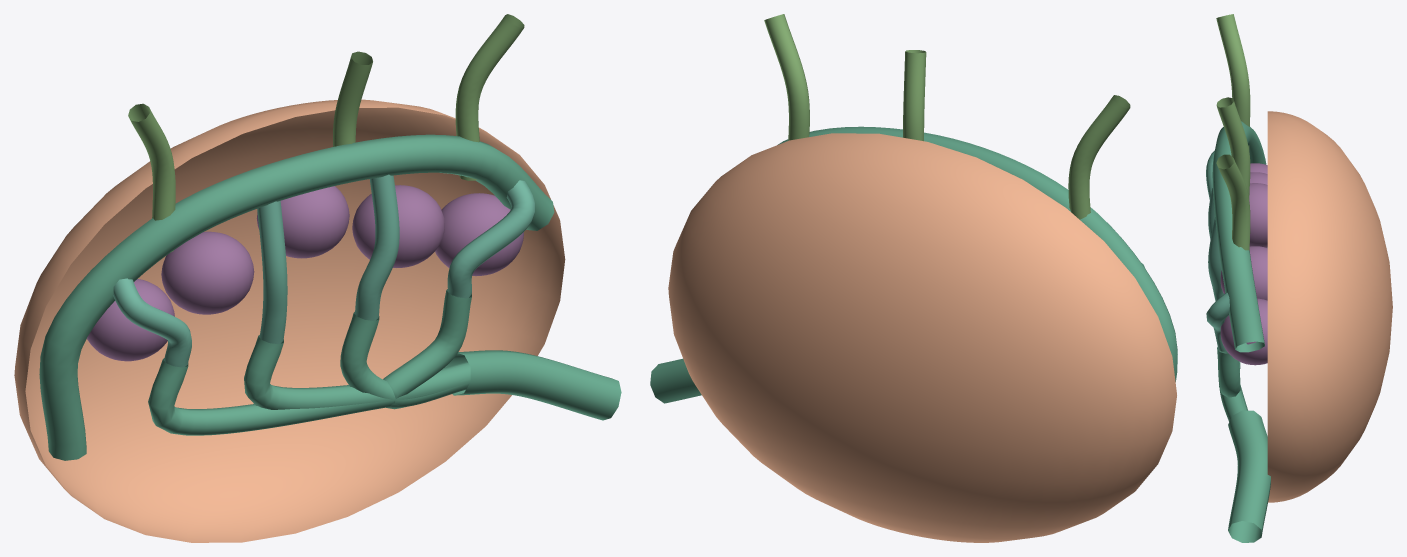
Rendered from node-sinuses.glb.
The picture shows the model from 3 angles, left to right: view 1: azimuth 30°, elevation 25°; view 2: azimuth 150°, elevation 25°; view 3: azimuth 270°, elevation 25°; orthographic projection. The views are drawn at different scales.
Visible parts, largest first — view 1: capsule, subcapsular_sinus, cortical_follicles, medullary_sinuses, cortical_sinuses, afferent_vessels, efferent_vessel; view 2: capsule, afferent_vessels, subcapsular_sinus, efferent_vessel; view 3: capsule, subcapsular_sinus, afferent_vessels, efferent_vessel, cortical_follicles, cortical_sinuses, medullary_sinuses.
Boxes of the visible parts, x1,y1,x2,y2 form: capsule: (14,99,565,542); subcapsular_sinus: (39,134,554,460); cortical_follicles: (87,185,523,361); medullary_sinuses: (148,289,471,435); cortical_sinuses: (113,174,534,367); afferent_vessels: (128,14,524,252); efferent_vessel: (445,350,621,420); capsule: (668,133,1176,542); afferent_vessels: (764,14,1130,219); subcapsular_sinus: (778,126,1177,381); efferent_vessel: (650,358,701,403); capsule: (1267,111,1392,502); subcapsular_sinus: (1212,121,1267,352); afferent_vessels: (1216,14,1250,250); efferent_vessel: (1228,410,1270,542); cortical_follicles: (1220,163,1267,365); cortical_sinuses: (1206,150,1229,351); medullary_sinuses: (1217,347,1247,421).
Size of the model in its own units: 2.12 by 1.72 by 0.7469.
